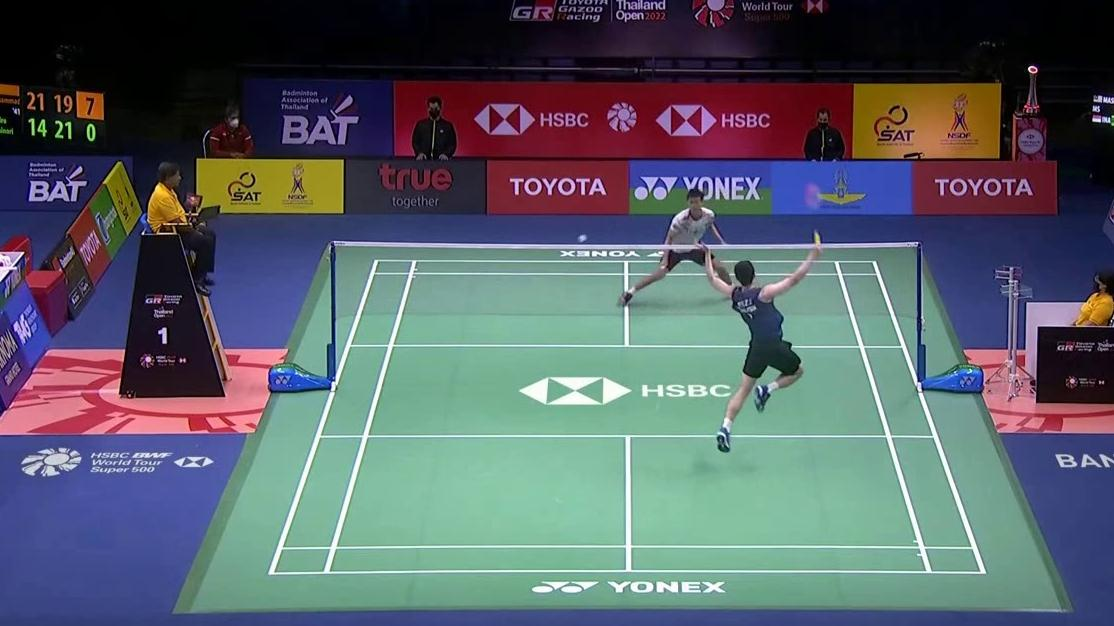racket: (802, 182, 829, 251), (653, 263, 672, 289)
shuttle: (576, 233, 589, 244)
